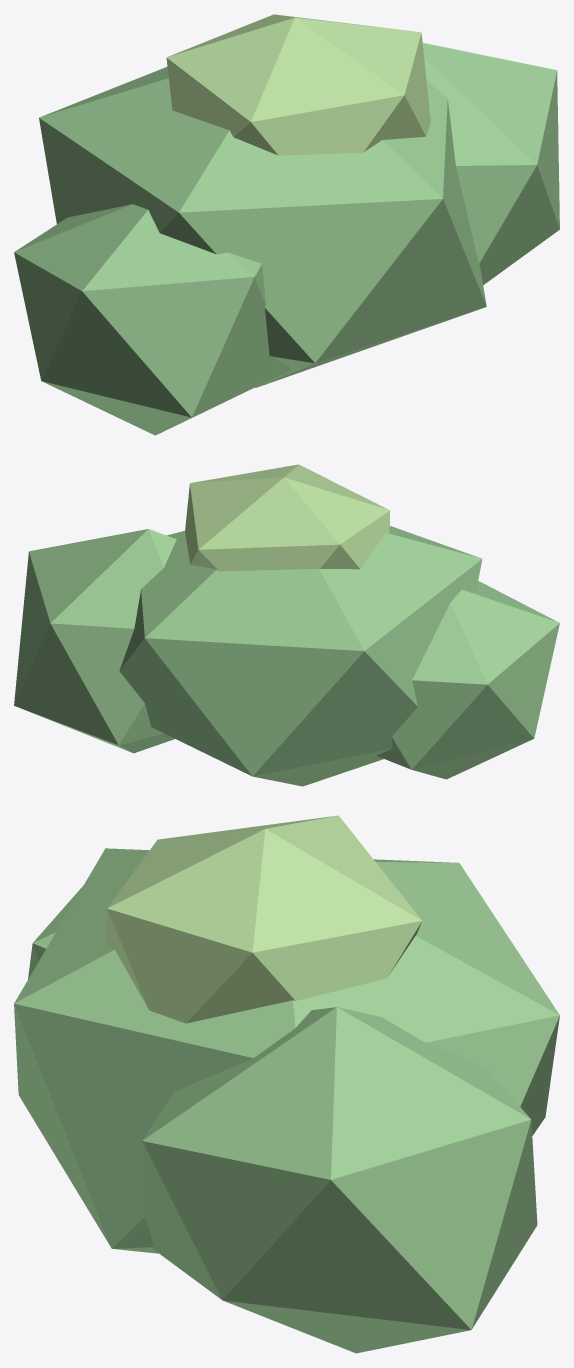
File: Bush.fbx
The picture shows the model from 3 angles, top to bottom: view 1: azimuth 30°, elevation 25°; view 2: azimuth 150°, elevation 25°; view 3: azimuth 270°, elevation 25°; orthographic projection. The views are drawn at different scales.
Visible parts, largest first — view 1: Bush; view 2: Bush; view 3: Bush.
Part boxes in pixels (box(x1,y1,x2,y2)): Bush: box(14, 14, 559, 435); Bush: box(14, 464, 559, 786); Bush: box(14, 815, 559, 1353).
Bounding box in the file's own units: 1.32 × 0.8144 × 0.8826.
